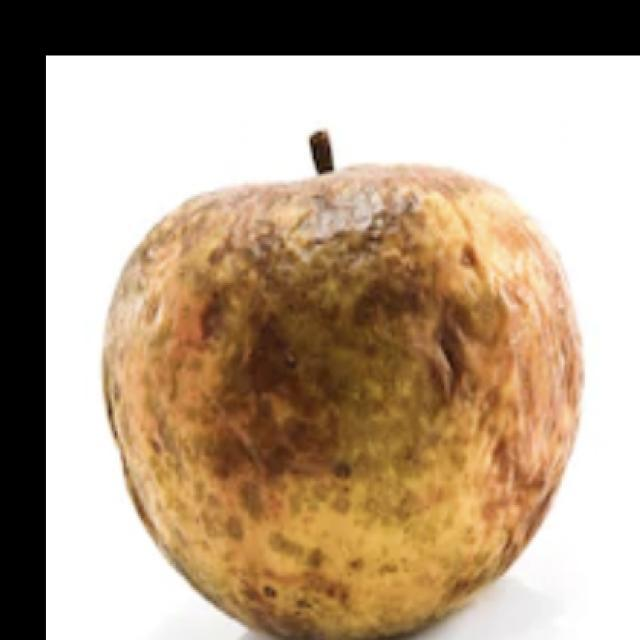Rotten: (118, 161, 576, 640)
